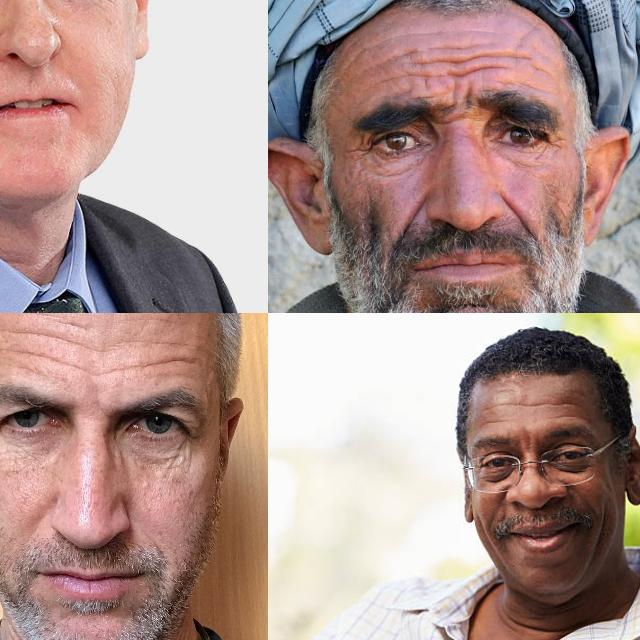crows_feet: (350, 134, 374, 158), (546, 129, 566, 157)
forehead: (0, 326, 72, 370), (134, 342, 206, 378), (492, 396, 582, 410), (484, 45, 530, 63), (433, 39, 475, 57), (446, 62, 486, 78), (392, 42, 423, 62), (345, 44, 373, 64), (409, 69, 436, 87)
frown_line: (438, 96, 458, 124), (463, 82, 477, 116), (522, 430, 534, 452)
gummy_smile: (398, 193, 424, 234), (502, 195, 532, 229)
masseter: (593, 508, 609, 562), (472, 513, 490, 545)
